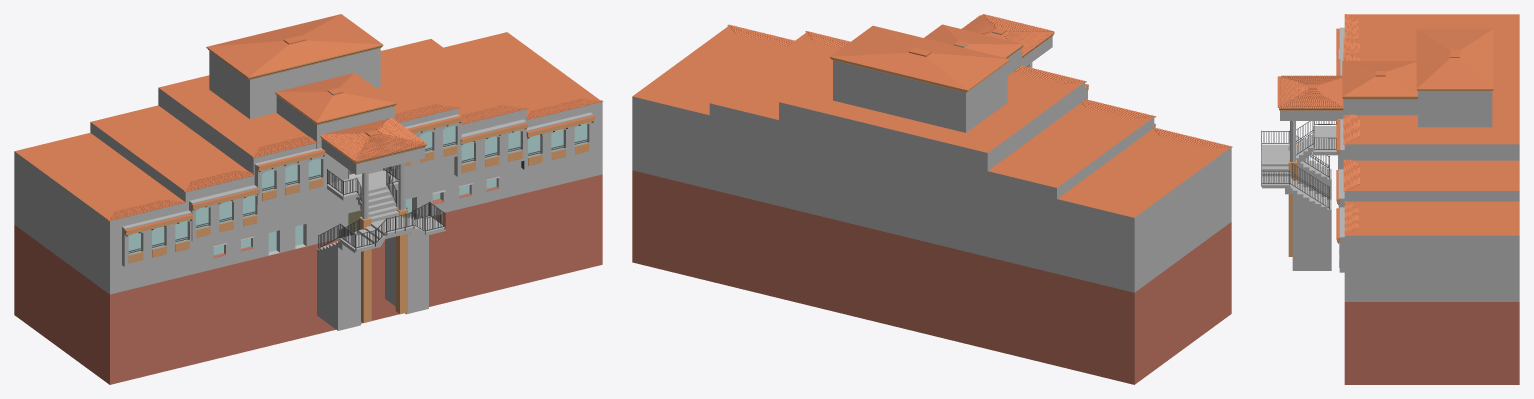
Rendered from 7_Hostal_Rafael_Vilar.fbx.
3 views of the same model, side by side, from view 1: azimuth 30°, elevation 25°; view 2: azimuth 150°, elevation 25°; view 3: azimuth 270°, elevation 25° (orthographic). The views are drawn at different scales.
Visible parts, largest first — view 1: Cube.064, good, Cube.062, Tejas.003, Cube.050, Cube.041; view 2: Cube.064, Tejas.003; view 3: Cube.064, Cube.062, Tejas.003, Cube.050, good, Cube.041.
Boxes of the visible parts, bbox=[...] form: Cube.064: bbox=[14, 14, 602, 384]; good: bbox=[122, 112, 593, 266]; Cube.062: bbox=[317, 170, 445, 330]; Tejas.003: bbox=[108, 98, 603, 221]; Cube.050: bbox=[318, 165, 445, 251]; Cube.041: bbox=[124, 115, 595, 236]; Cube.064: bbox=[632, 15, 1231, 384]; Tejas.003: bbox=[727, 14, 1232, 148]; Cube.064: bbox=[1279, 14, 1519, 384]; Cube.062: bbox=[1262, 126, 1337, 270]; Tejas.003: bbox=[1277, 14, 1359, 236]; Cube.050: bbox=[1261, 121, 1336, 209]; good: bbox=[1338, 27, 1344, 272]; Cube.041: bbox=[1336, 28, 1340, 243].
Size of the model in its own units: 5465 by 2550 by 2697.
